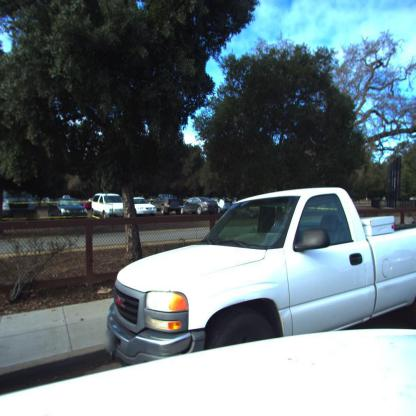car: (90, 192, 125, 218), (51, 197, 90, 219), (183, 197, 221, 214), (134, 196, 158, 216), (163, 198, 184, 214)
truck: (105, 188, 416, 367)
